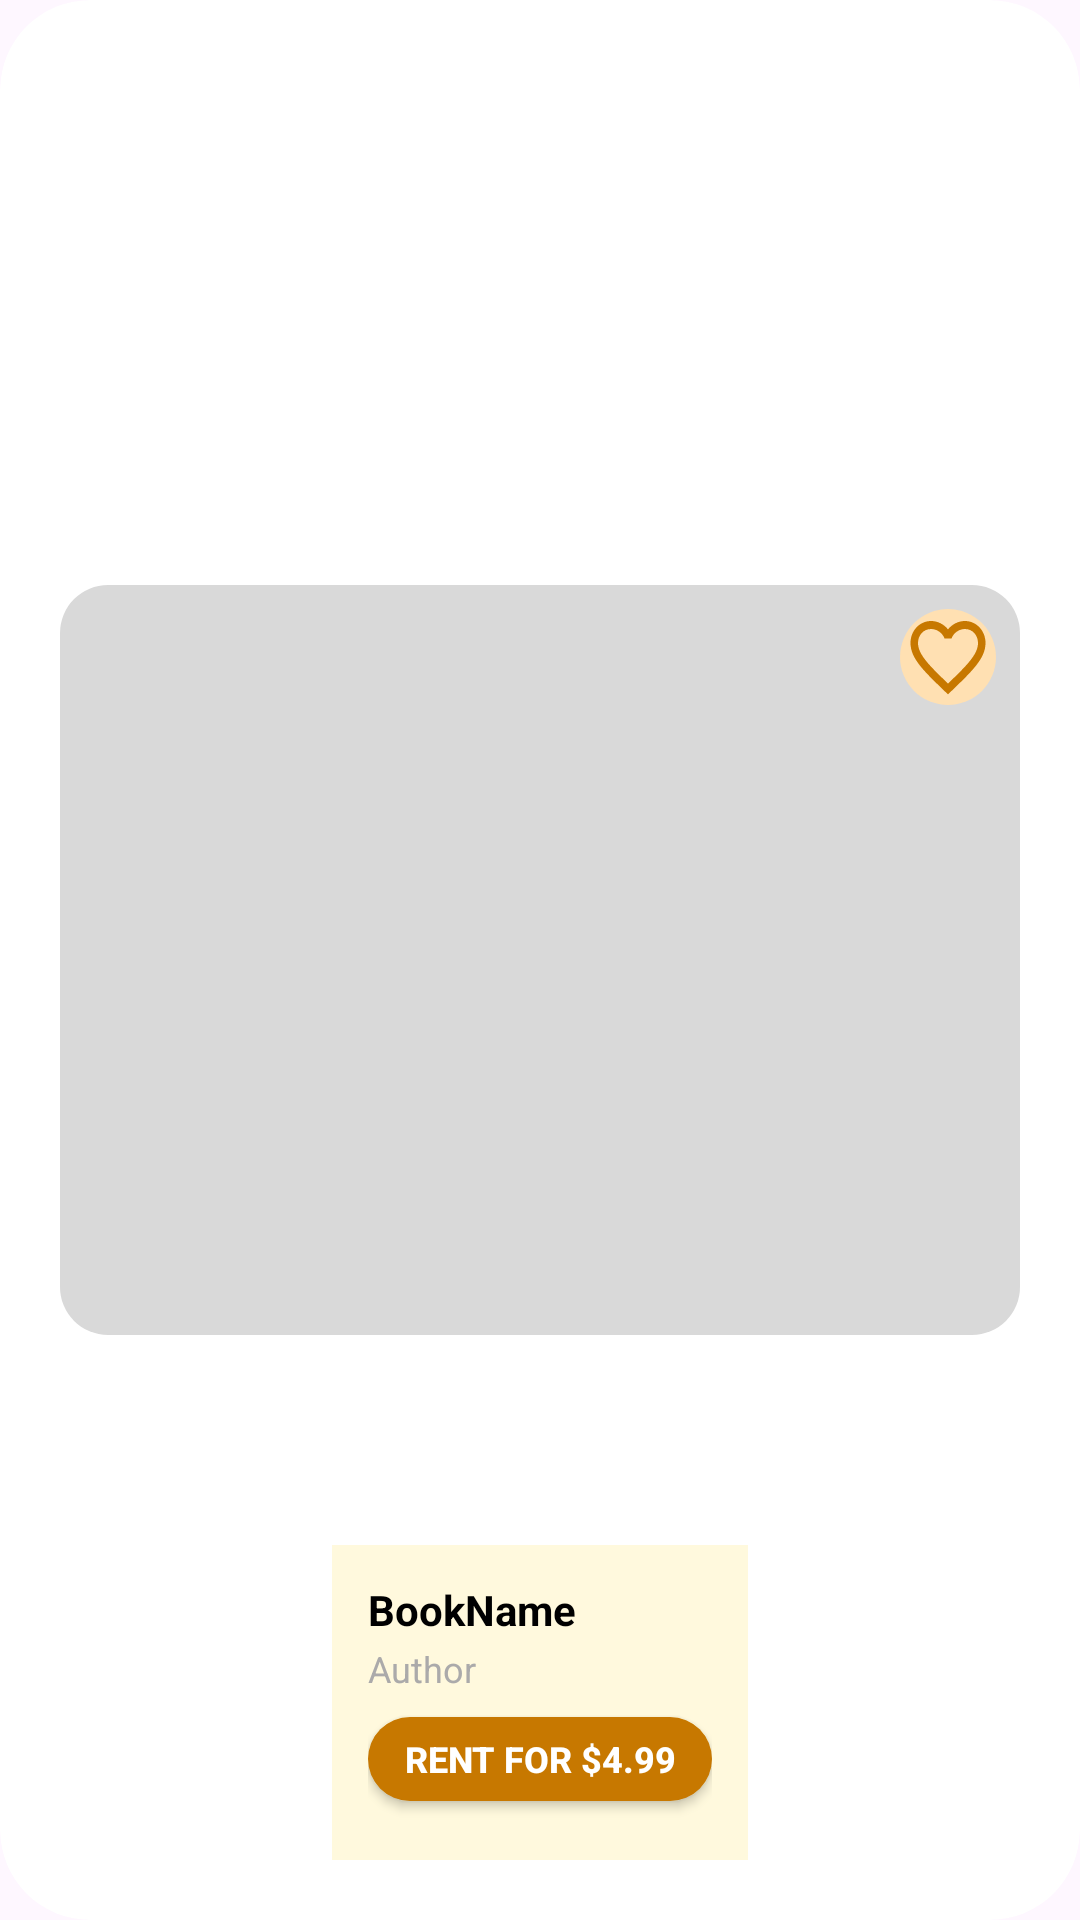

Where icons sit on this 1080x1920 app screen, as (x1, y1, x2, y2):
favorite border: (900, 609, 996, 705)
